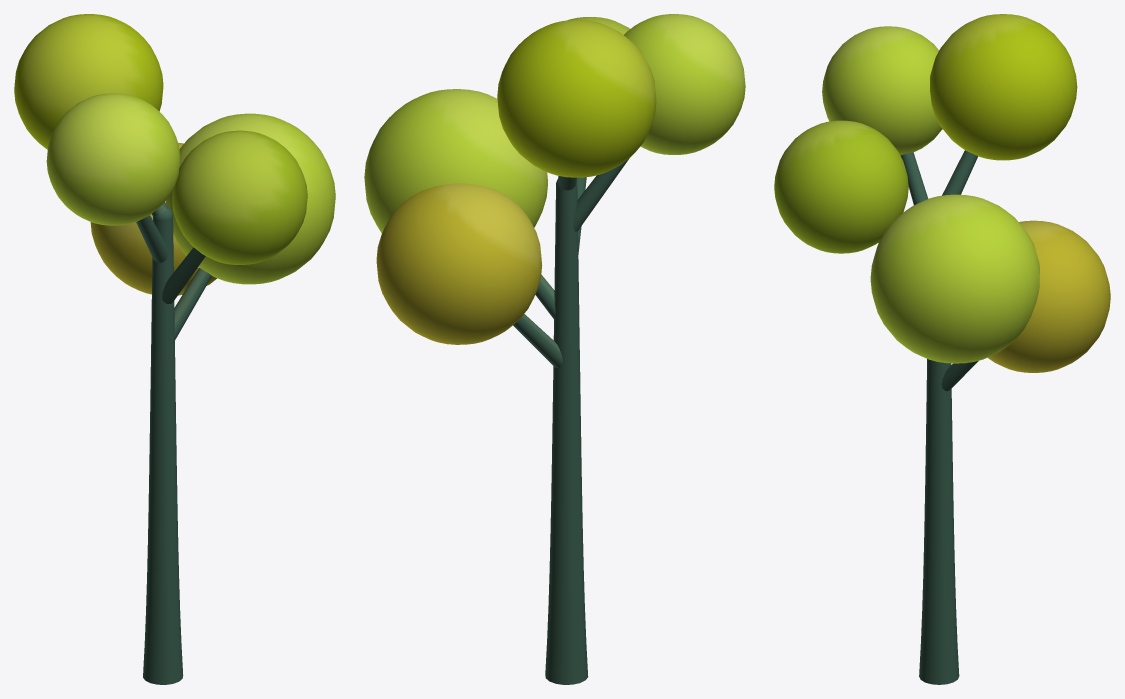
The model's file is tree-114.obj.
3 views of the same model, side by side, from view 1: azimuth 30°, elevation 25°; view 2: azimuth 150°, elevation 25°; view 3: azimuth 270°, elevation 25° (orthographic). The views are drawn at different scales.
Visible parts, largest first — view 1: tree; view 2: tree; view 3: tree.
Boxes of the visible parts, x1,y1,x2,y2 form: tree: [14, 14, 335, 684]; tree: [364, 14, 745, 684]; tree: [774, 14, 1110, 684].
Bounding box in the file's own units: 204 × 412 × 198.
